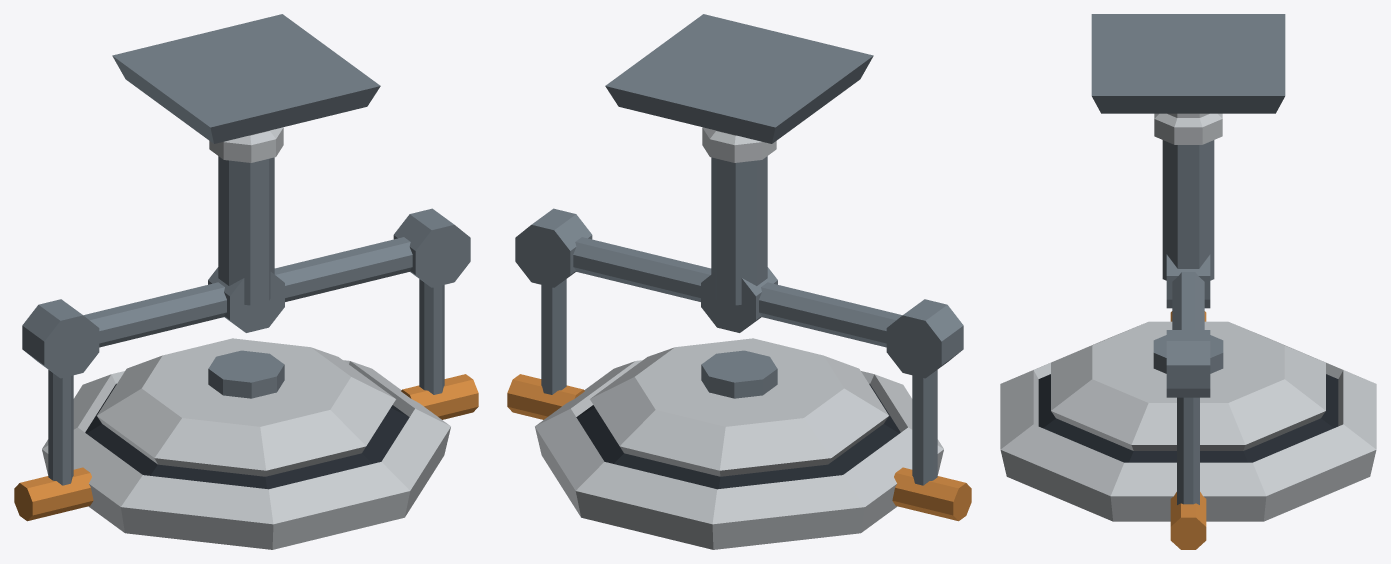
Rendered from surgical-light-7628dd.glb.
3 views of the same model, side by side, from view 1: azimuth 30°, elevation 25°; view 2: azimuth 150°, elevation 25°; view 3: azimuth 270°, elevation 25° (orthographic).
Visible parts, largest first — view 1: head, arm, ceiling-boss; view 2: head, arm, ceiling-boss; view 3: head, ceiling-boss, arm.
Part boxes in pixels (left/top/right/bottom): head: left=14, top=338, right=478, bottom=549; arm: left=22, top=156, right=470, bottom=485; ceiling-boss: left=112, top=14, right=380, bottom=162; head: left=507, top=338, right=971, bottom=549; arm: left=515, top=156, right=963, bottom=485; ceiling-boss: left=605, top=14, right=873, bottom=162; head: left=1000, top=311, right=1376, bottom=549; ceiling-boss: left=1091, top=14, right=1285, bottom=144; arm: left=1162, top=140, right=1214, bottom=504.
Bounding box in the file's own units: 1.05 × 1.03 × 0.7761.
